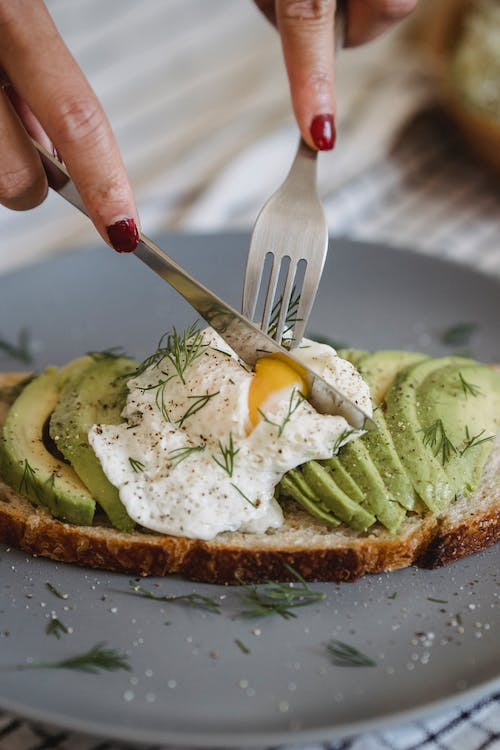knife: (28, 132, 380, 437)
